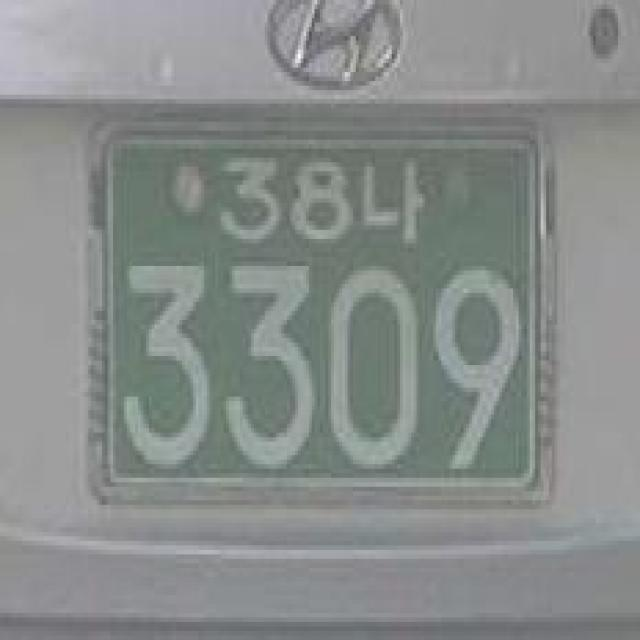illegal_plate: (72, 100, 564, 541)
